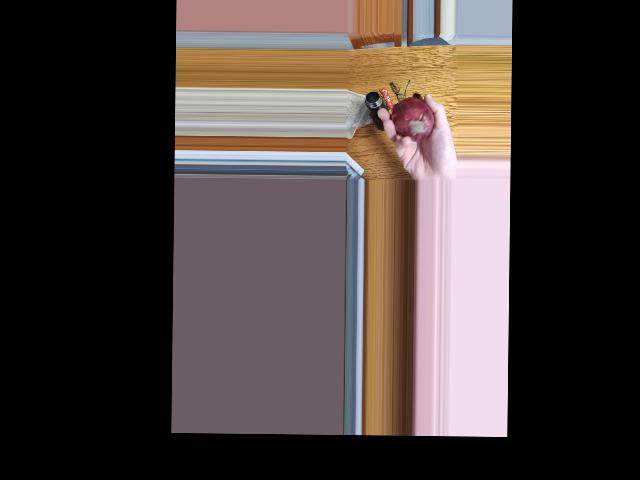onion: (398, 99, 435, 146)
